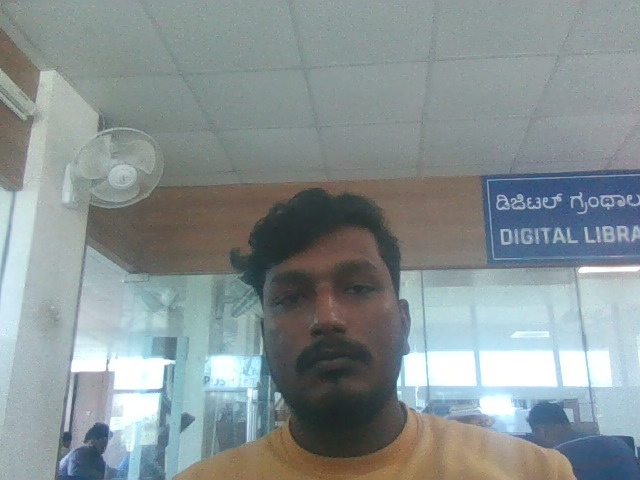real: (245, 173, 420, 421)
